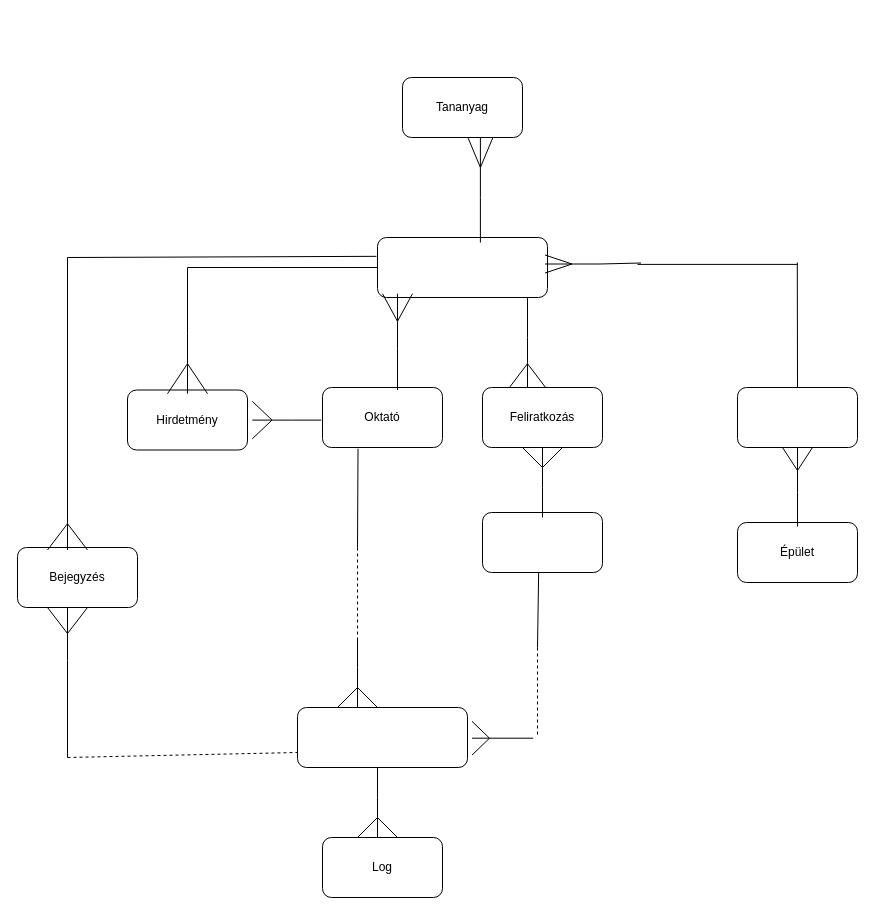
Image size: 875x915. Some labels were removed from this diagram. Here are the shapes that lost their labels. From the top down, the centre of each, then its label:
At (x=462, y=267): "Kurzus".
At (x=797, y=417): "Terem".
At (x=542, y=542): "Hallgató".
At (x=382, y=737): "Felhasználó".
